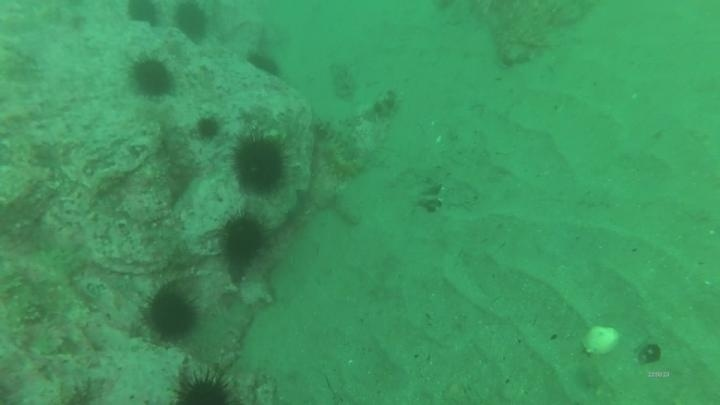echinus: (229, 130, 292, 197), (140, 282, 202, 344), (216, 210, 270, 270), (169, 368, 240, 405), (128, 55, 177, 100), (171, 2, 212, 45), (244, 48, 284, 80), (124, 1, 162, 28), (192, 113, 224, 142)
holothurian: (312, 114, 366, 157), (315, 139, 364, 178), (328, 60, 359, 103)
scallop: (581, 323, 621, 358)
